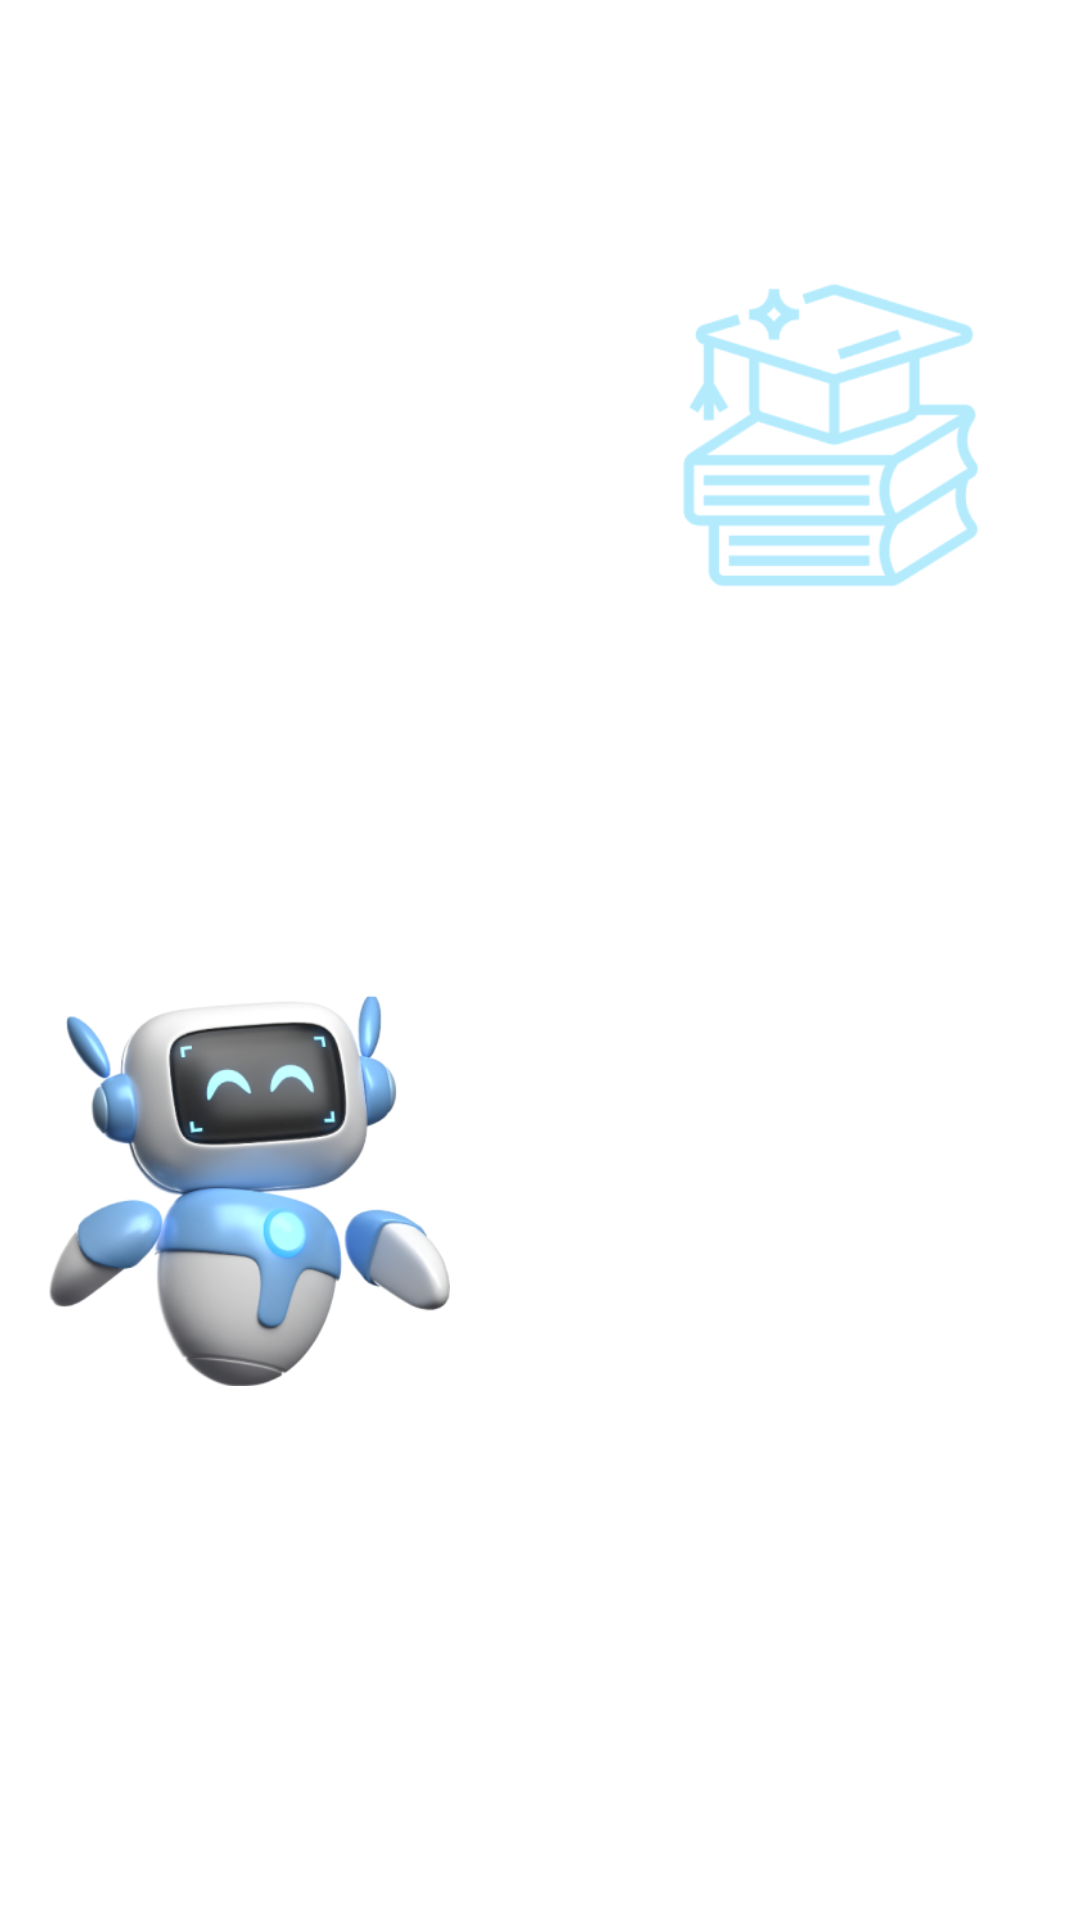

Named icons in this screenshot (1080 x 1920) and their bounding boxes, (x1, y1, x2, y2):
university: (683, 284, 978, 586)
